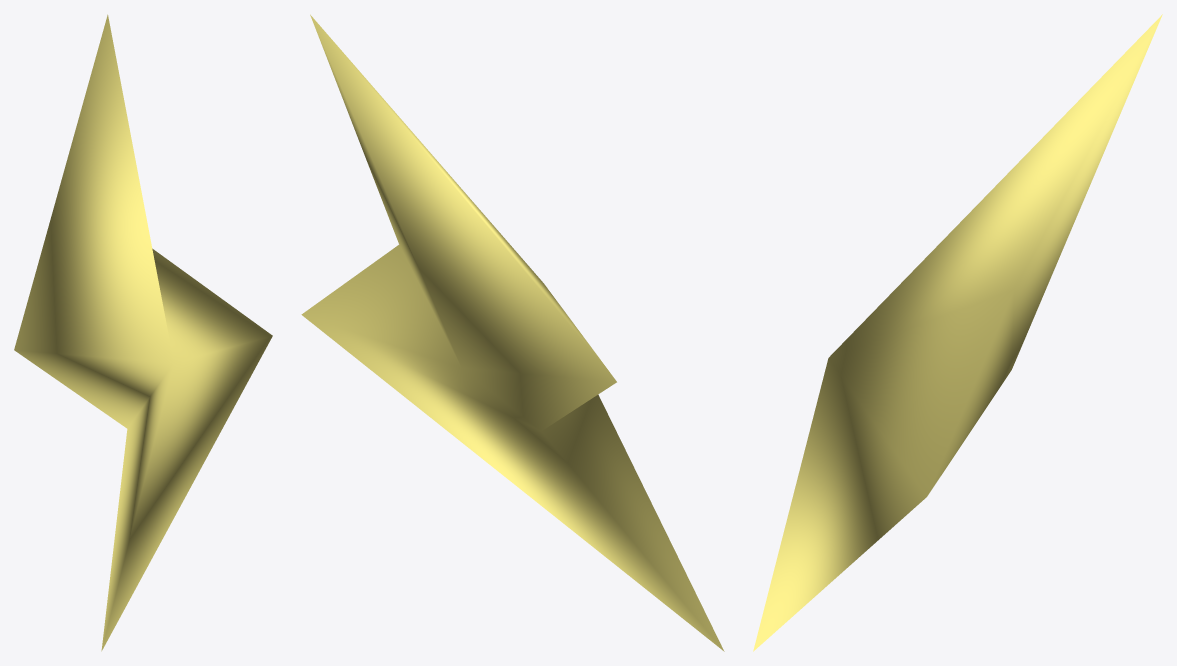
File: elekibear.glb
3 renders of one model, left to right at view 1: azimuth 30°, elevation 25°; view 2: azimuth 150°, elevation 25°; view 3: azimuth 270°, elevation 25°, orthographic. The views are drawn at different scales.
Parts seen in each view (by area): view 1: Thunder; view 2: Thunder; view 3: Thunder.
Part boxes in pixels (x1=…): Thunder: x1=14, y1=14, x2=272, y2=651; Thunder: x1=301, y1=14, x2=724, y2=651; Thunder: x1=753, y1=14, x2=1162, y2=651.
Bounding box in the file's own units: 0.114 × 0.2302 × 0.1152.
1 material, 1 textured.
